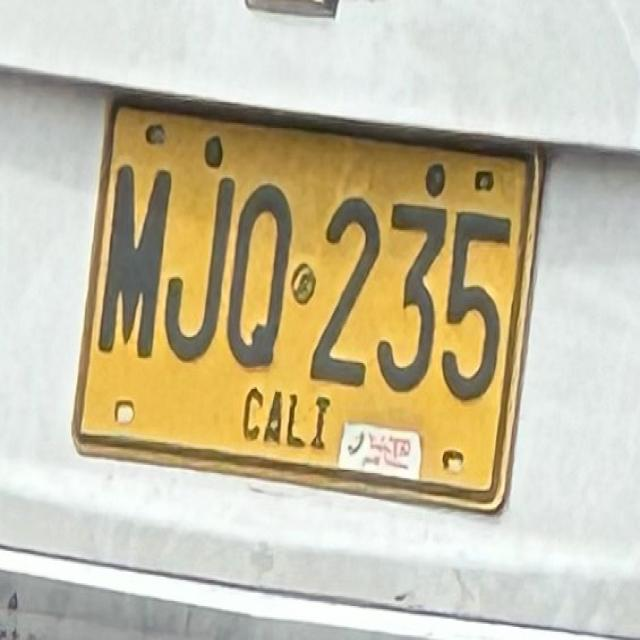number plate: (72, 102, 540, 507)
